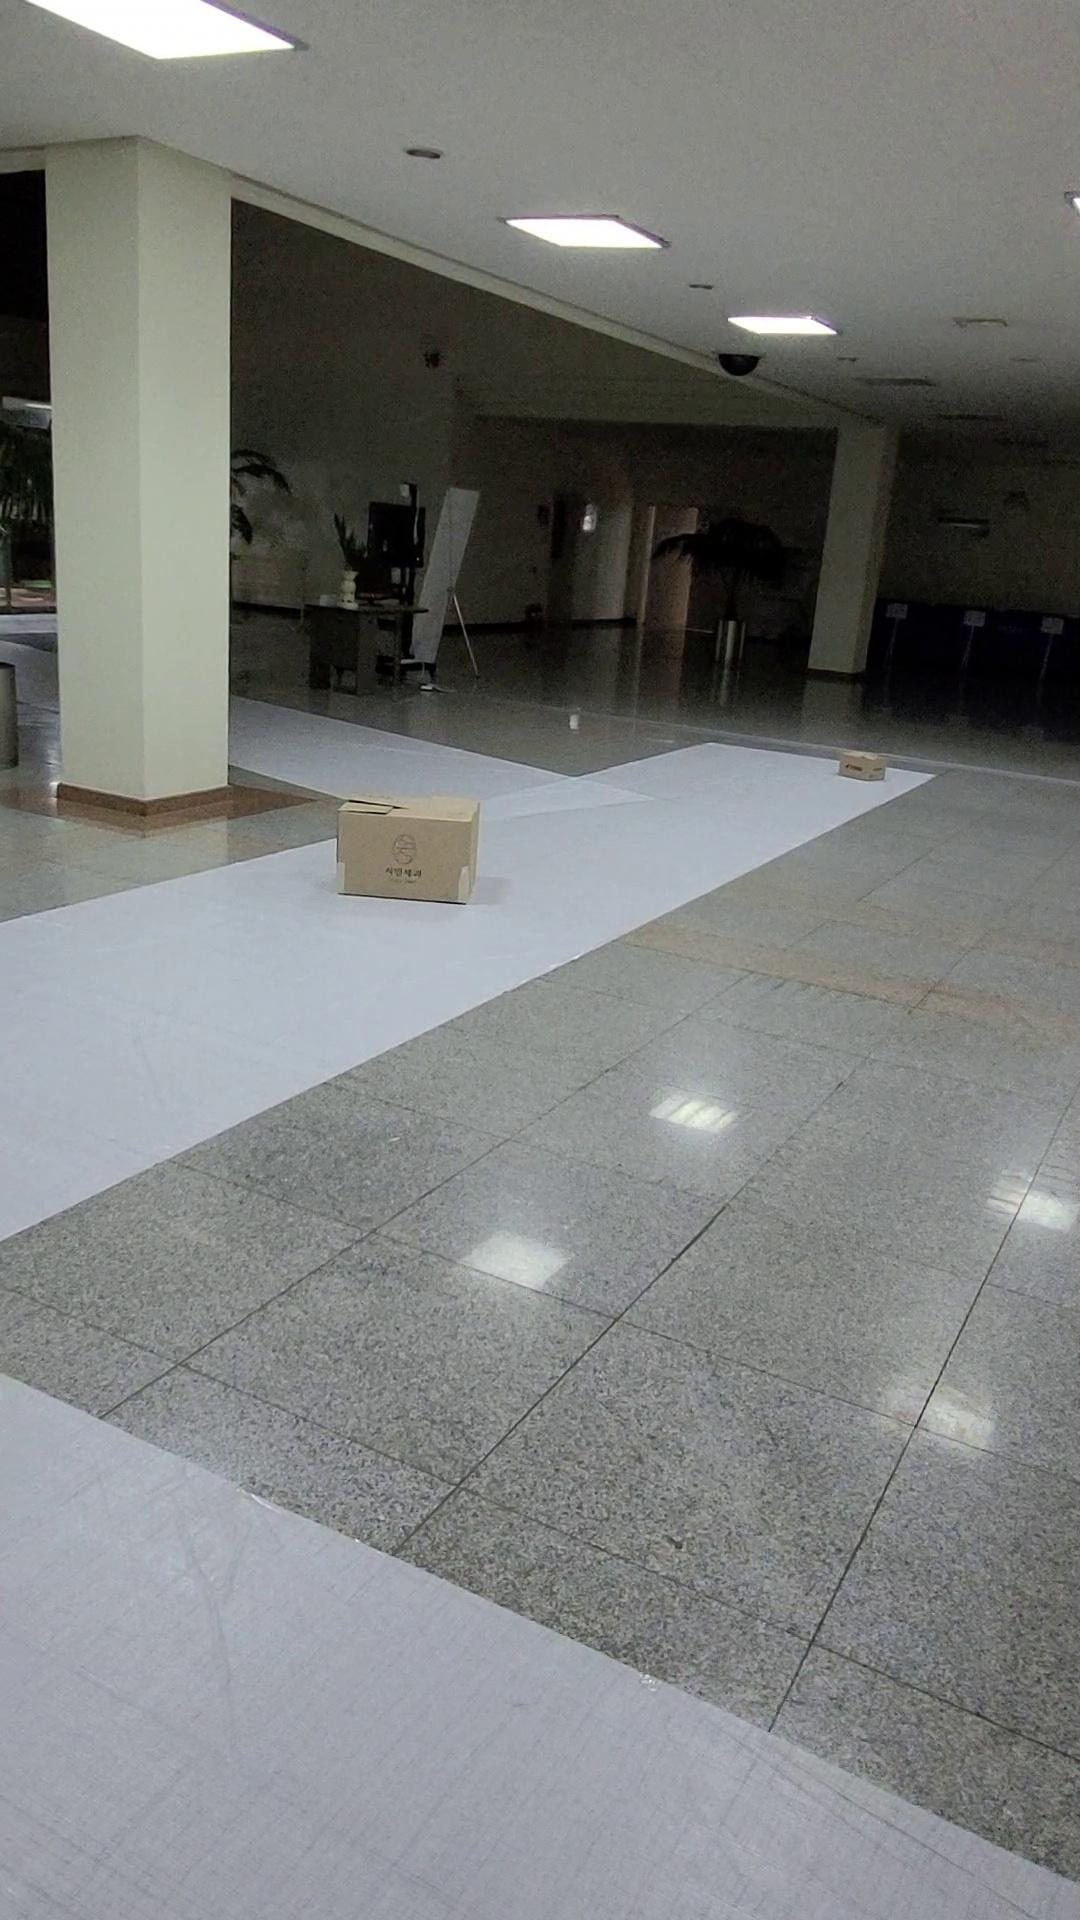Box: (328, 781, 492, 920), (831, 735, 887, 790)
